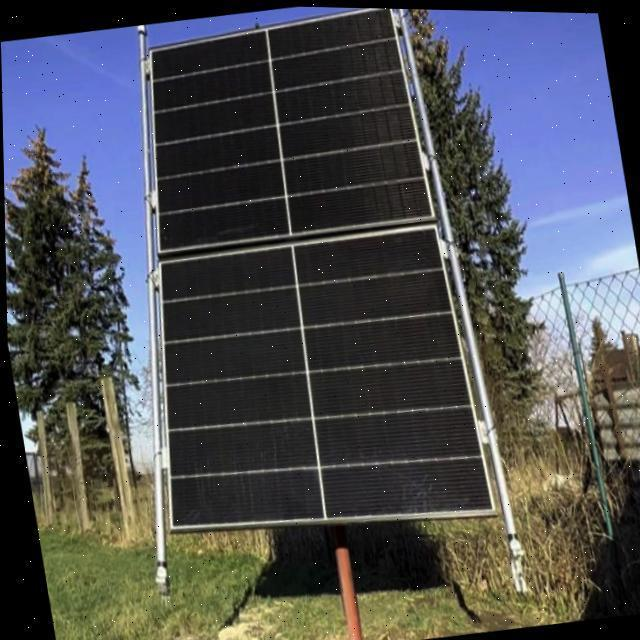Normal Solar Panel: (89, 2, 494, 554)
